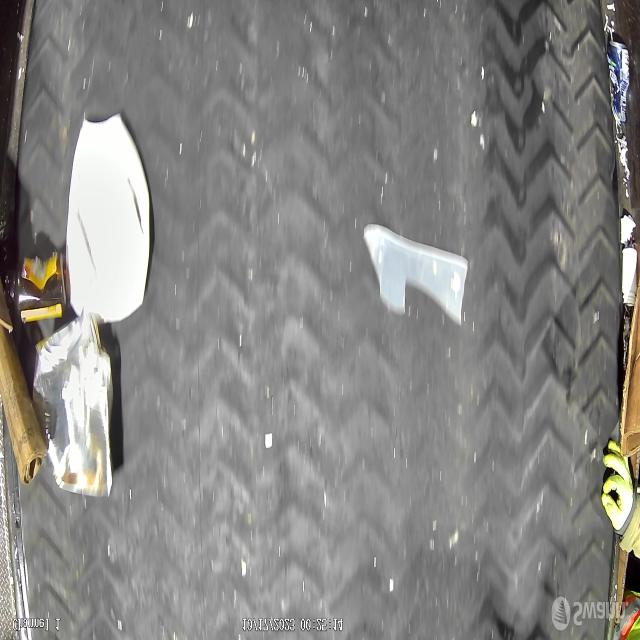can: (606, 40, 630, 126)
milk_jug: (67, 113, 154, 323)
